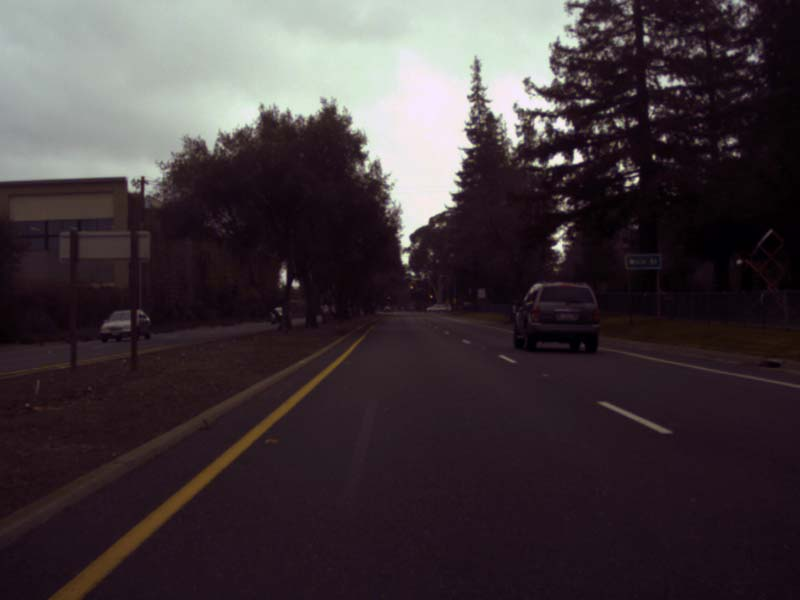Red: (407, 281, 414, 290), (386, 292, 391, 300), (429, 292, 433, 300)
